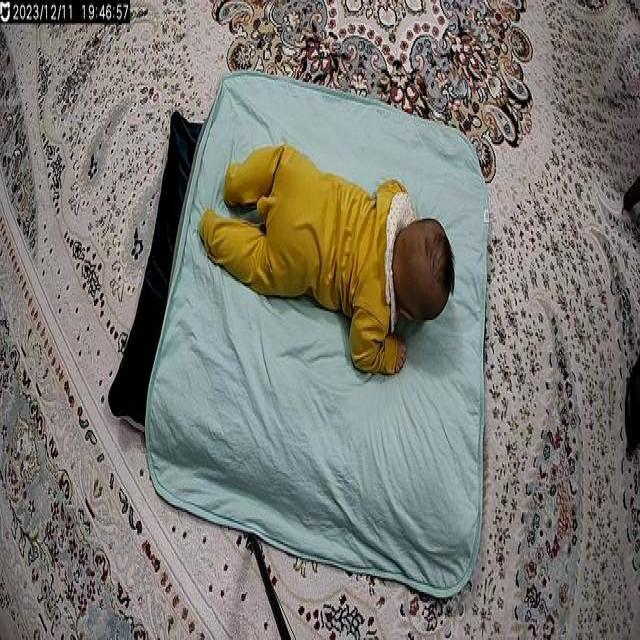baby: (198, 140, 460, 385)
